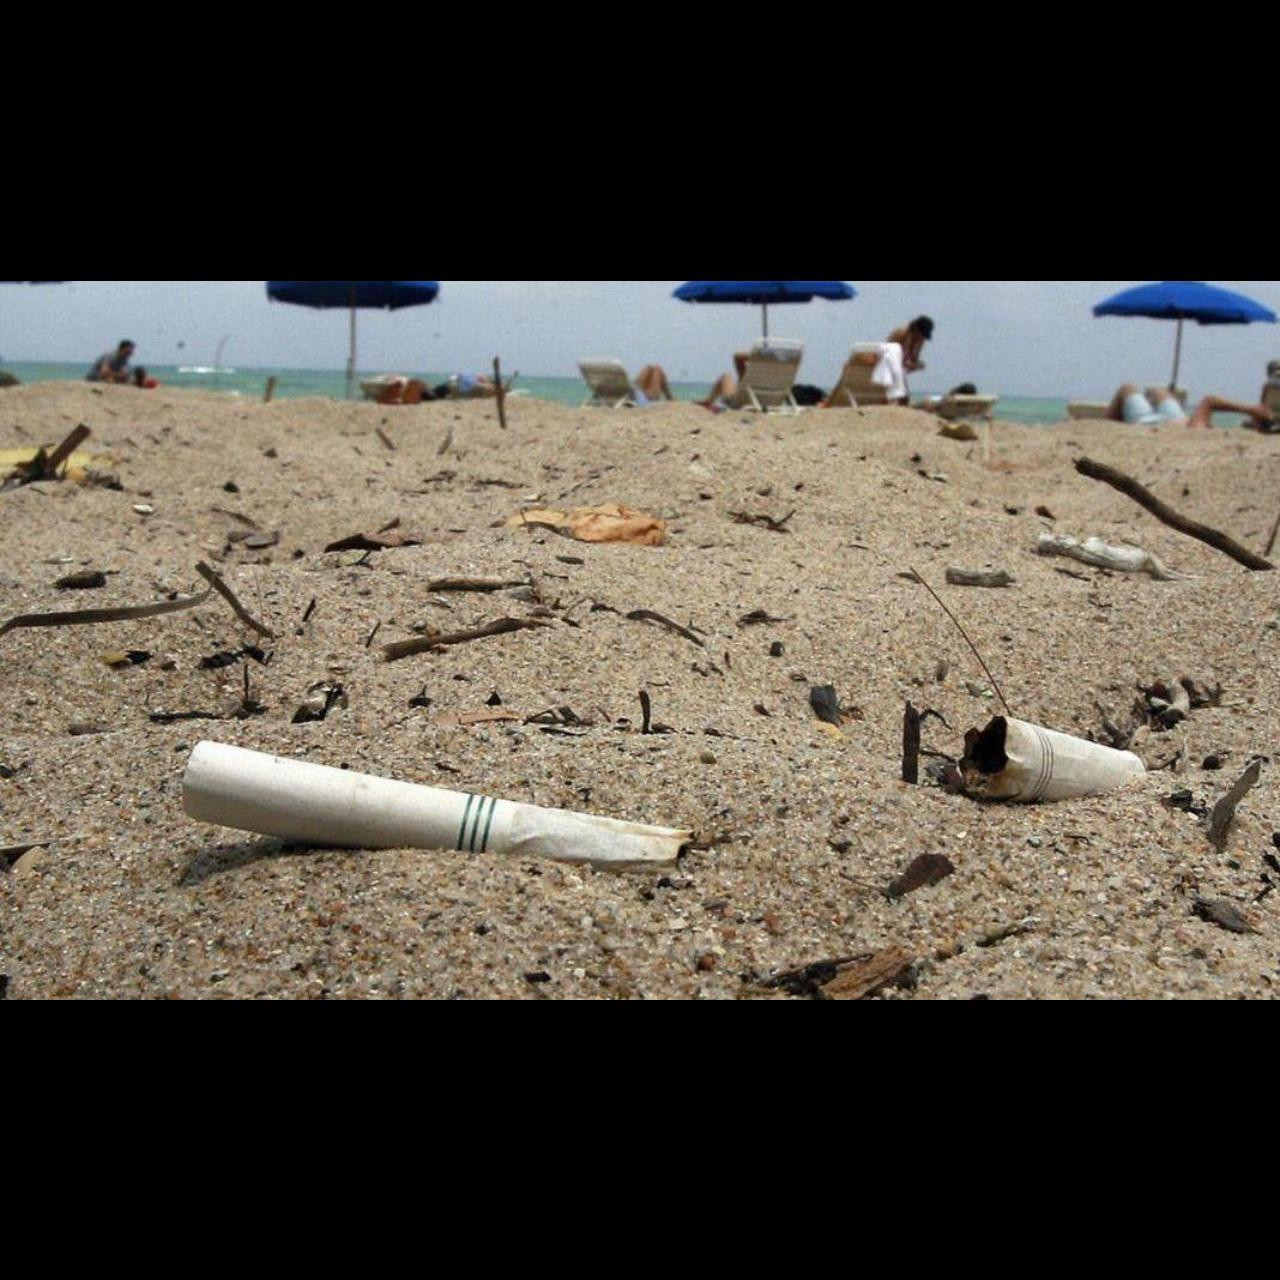cigarettes_butts: (179, 741, 694, 866), (959, 715, 1145, 799)
